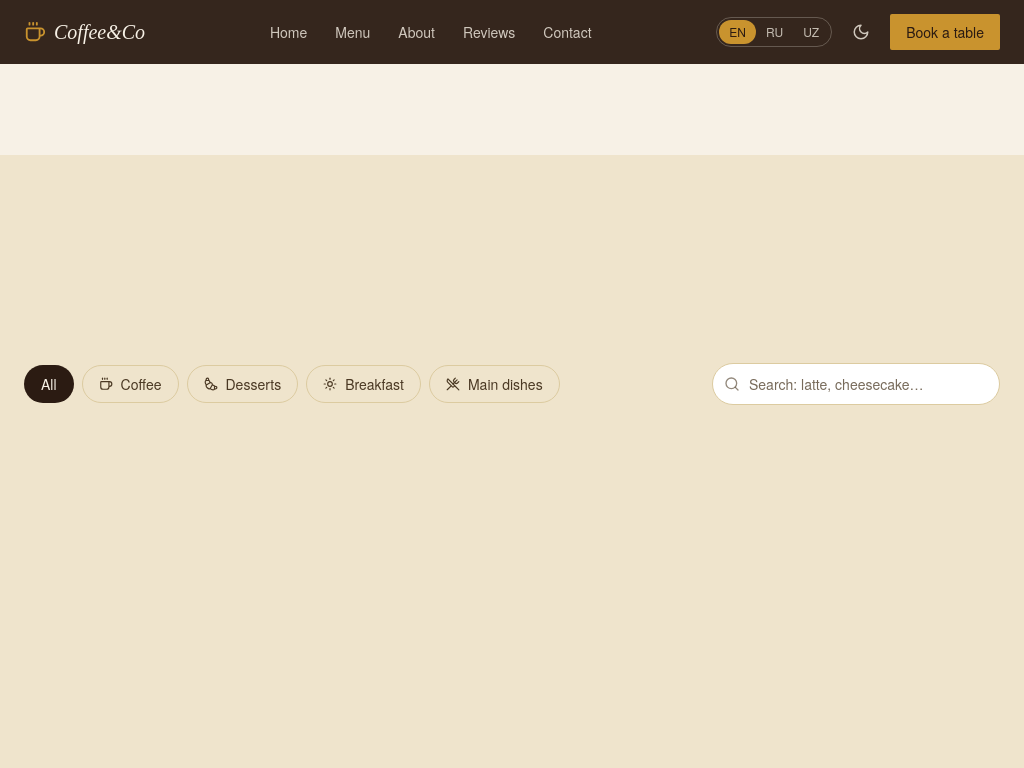
Test case: Landing page › filters the menu by category and search query
(page scrolled)
Click the button "Desserts" at (242, 384), box x1=186 y1=365 x2=298 y2=403
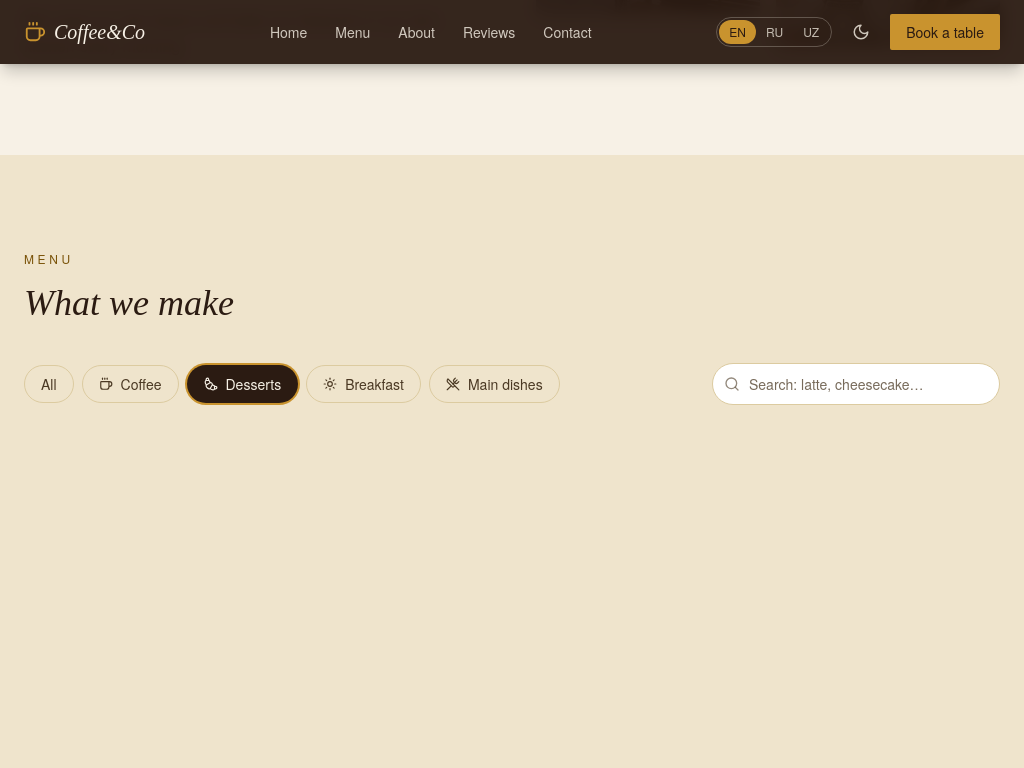
Click the button "All" at (49, 384), box x1=24 y1=365 x2=74 y2=403
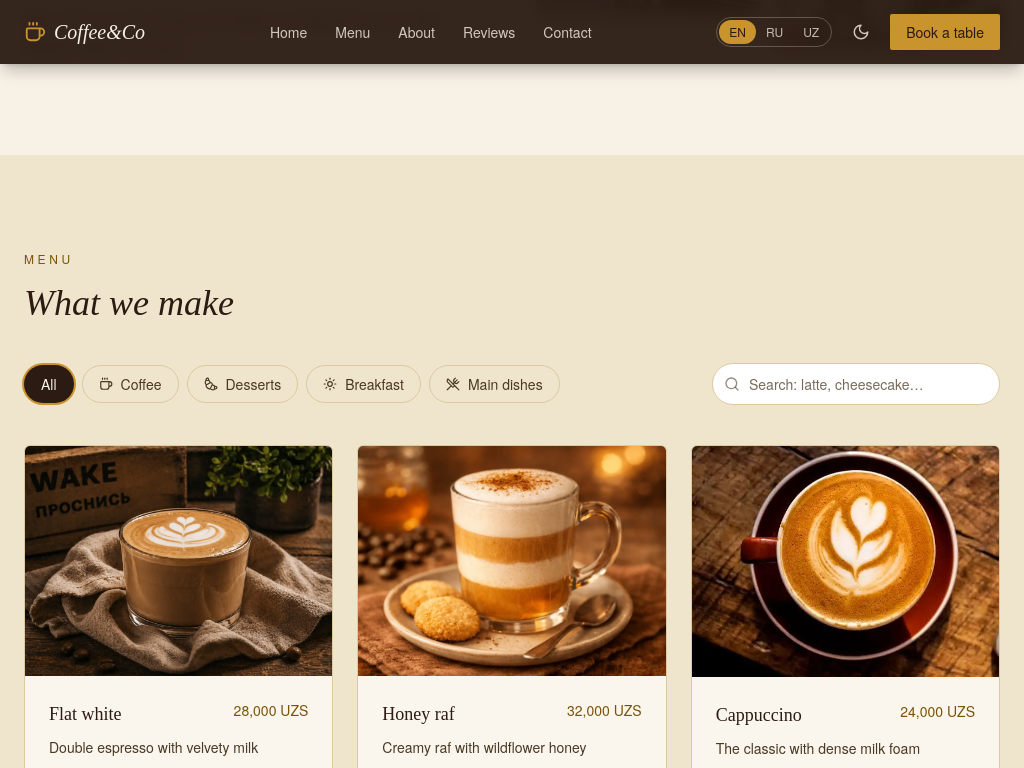
# Search works in any language, not only the current one
Type "капучино" into the search field named "Search the menu" at (856, 384), box x1=712 y1=363 x2=1000 y2=405
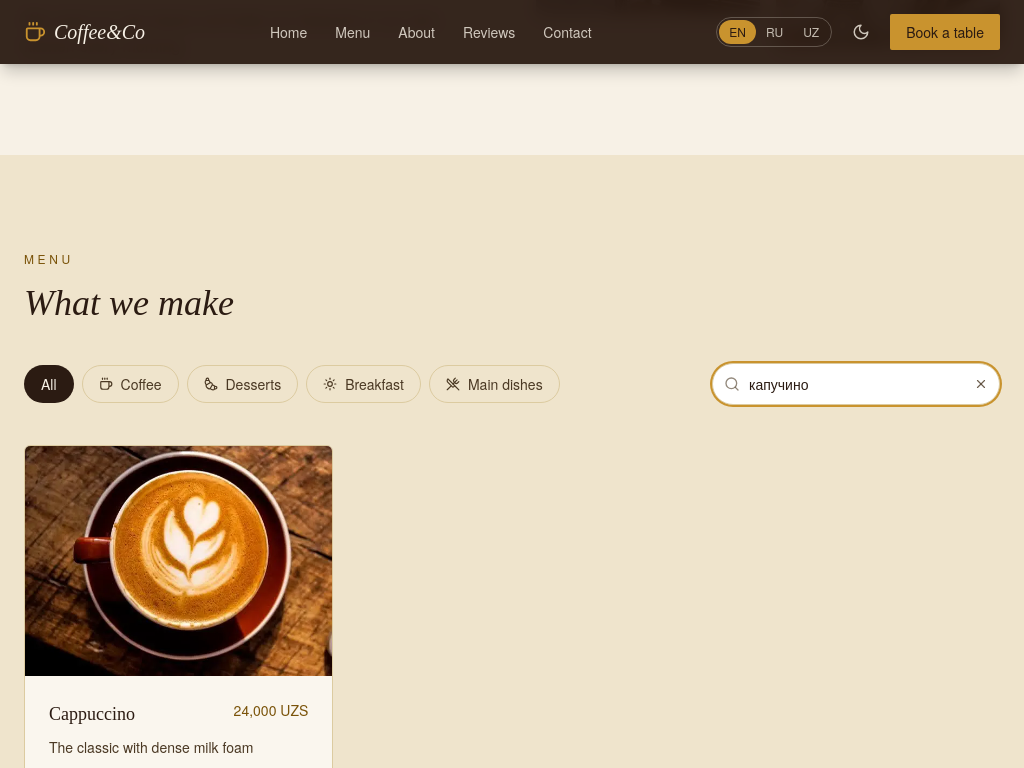
Replace the text in the search field named "Search the menu" with "pizza" at (856, 384), box x1=712 y1=363 x2=1000 y2=405
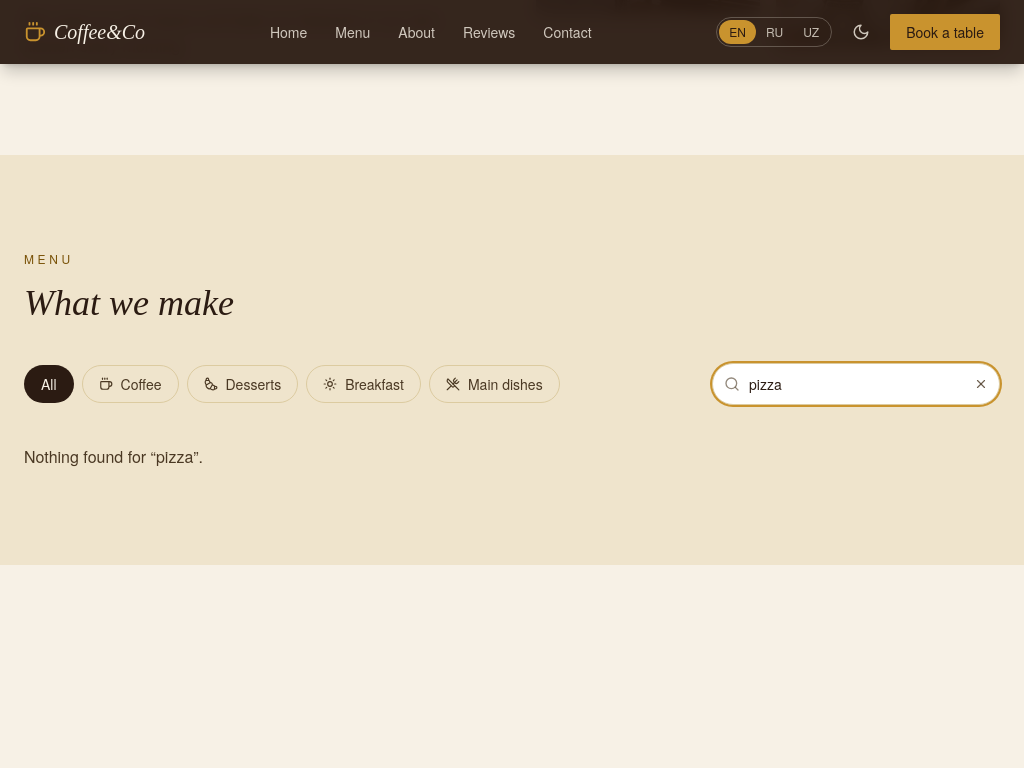
Result: the text "Nothing found for “pizza”." is shown at x1=24 y1=445 x2=203 y2=468
